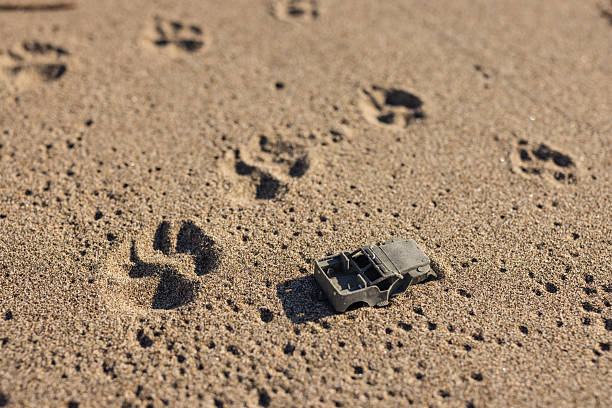animal_footprint: (102, 221, 218, 309), (223, 135, 311, 198), (0, 41, 68, 85), (510, 139, 577, 183), (229, 149, 287, 199), (360, 86, 424, 127), (143, 16, 209, 53), (272, 0, 319, 21), (0, 0, 75, 11), (599, 0, 611, 25)
